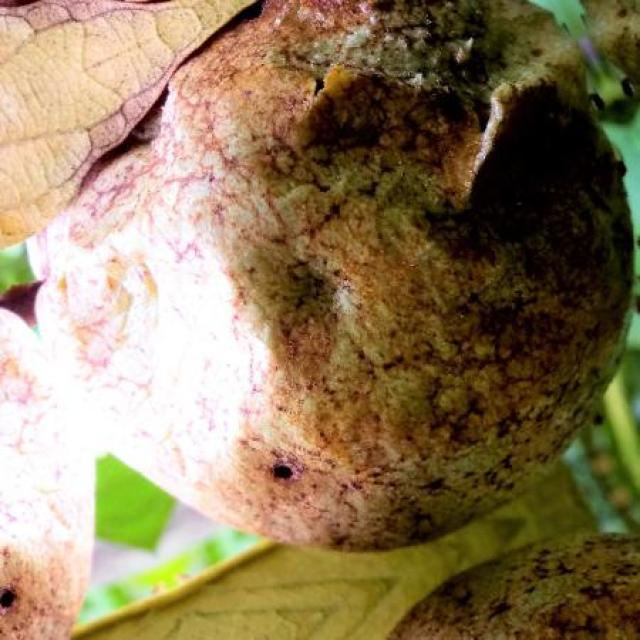Phytopthora: (30, 0, 632, 549)
